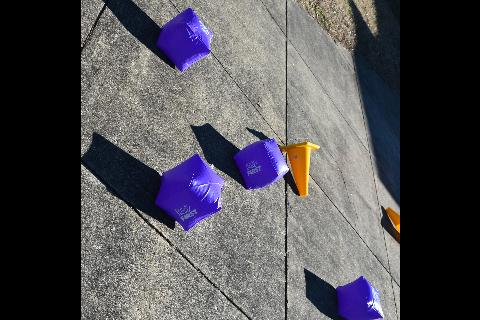cone: (277, 141, 319, 197), (384, 208, 400, 245)
cube: (154, 152, 224, 232), (155, 8, 213, 72), (231, 138, 289, 190), (335, 275, 383, 320)
